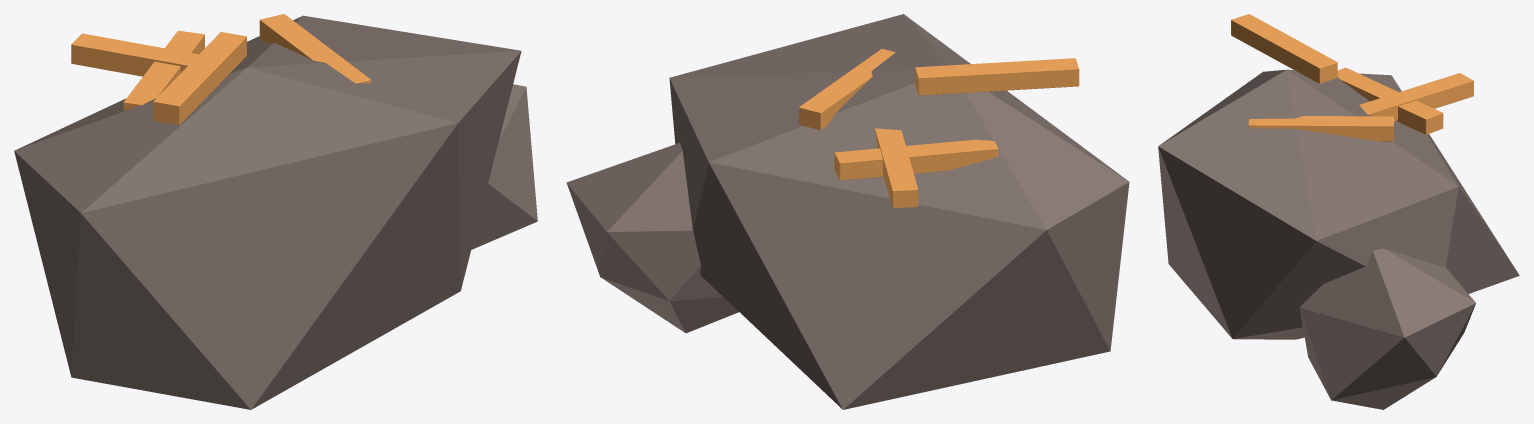
The model's file is LavaRock.fbx.
3 renders of one model, left to right at view 1: azimuth 30°, elevation 25°; view 2: azimuth 150°, elevation 25°; view 3: azimuth 270°, elevation 25°, orthographic. The views are drawn at different scales.
Visible parts, largest first — view 1: RockDark.001, Lava; view 2: RockDark.001, Lava; view 3: RockDark.001, Lava.
Part boxes in pixels (x1,y1,x2,y2): RockDark.001: (14, 15, 537, 409); Lava: (71, 14, 370, 124); RockDark.001: (566, 14, 1129, 409); Lava: (799, 48, 1079, 208); RockDark.001: (1158, 69, 1519, 409); Lava: (1231, 14, 1473, 141).
Bounding box in the file's own units: 3.44 × 2.03 × 2.49.
